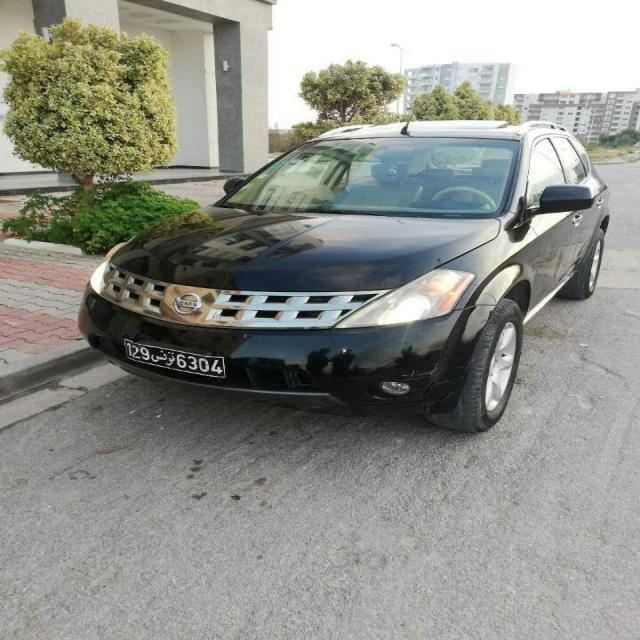LP: (122, 338, 225, 380)
